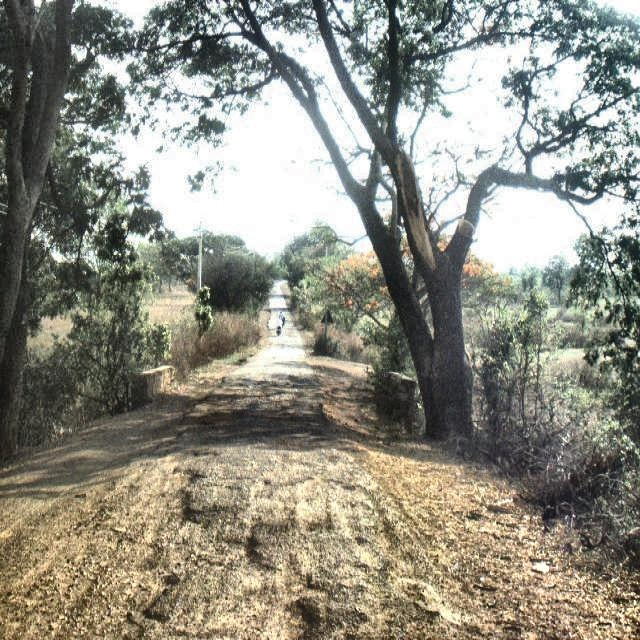Pothole: (162, 463, 344, 640), (59, 496, 155, 640), (357, 473, 435, 640)
